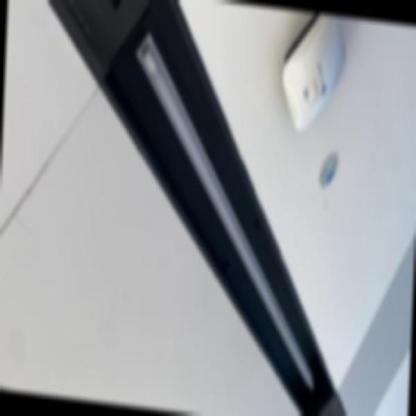light_off: (120, 22, 334, 398)
